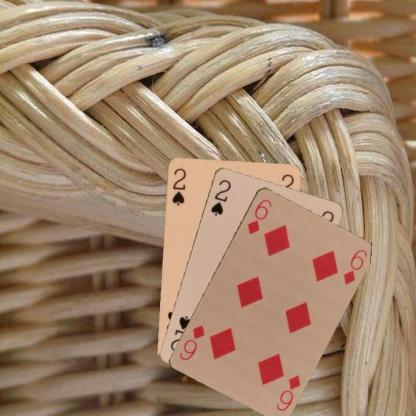2s: (208, 176, 232, 217), (169, 165, 187, 207)
6d: (244, 196, 273, 236), (273, 372, 302, 412)
